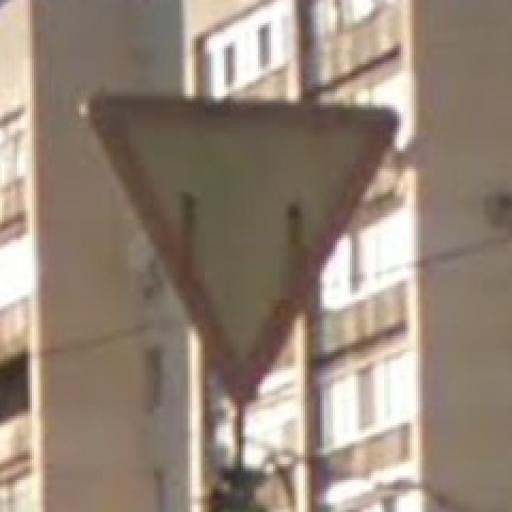traffic_sign: (78, 88, 400, 408)
